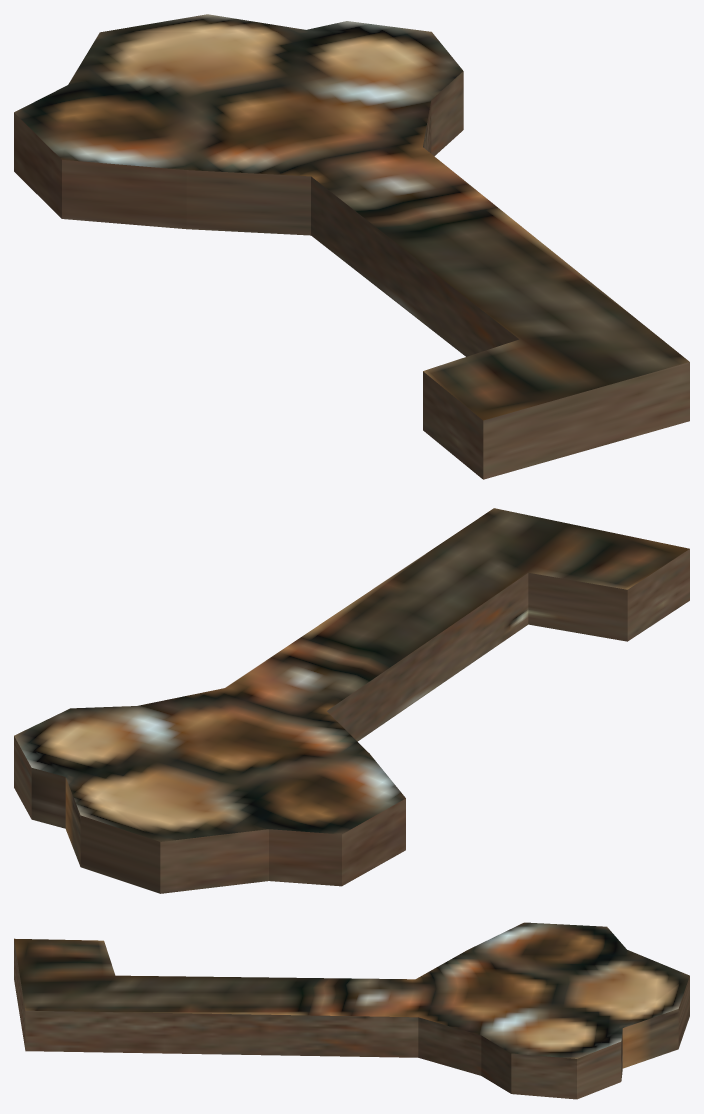
File: Key2.fbx
The picture shows the model from 3 angles, top to bottom: view 1: azimuth 30°, elevation 25°; view 2: azimuth 150°, elevation 25°; view 3: azimuth 270°, elevation 25°; orthographic projection. The views are drawn at different scales.
Parts seen in each view (by area): view 1: Key2; view 2: Key2; view 3: Key2.
Boxes of the visible parts, x1=… form: Key2: x1=14, y1=14, x2=689, y2=479; Key2: x1=14, y1=508, x2=689, y2=893; Key2: x1=14, y1=922, x2=689, y2=1099.
Size of the model in its own units: 10.09 by 1.4 by 21.11.
1 material, 1 textured.
